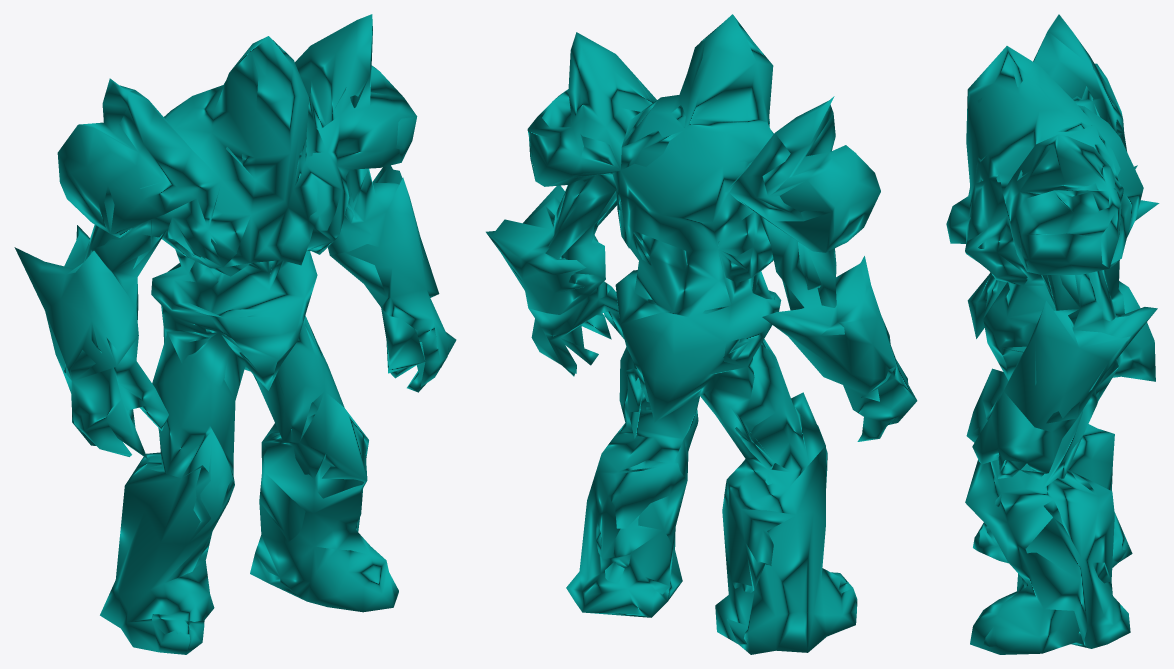
The model's file is gen3d-crystal-golem-lod0.glb.
3 renders of one model, left to right at view 1: azimuth 30°, elevation 25°; view 2: azimuth 150°, elevation 25°; view 3: azimuth 270°, elevation 25°, orthographic. The views are drawn at different scales.
Visible parts, largest first — view 1: part_0; view 2: part_0; view 3: part_0.
Boxes of the visible parts, bbox=[...] form: part_0: bbox=[14, 14, 456, 654]; part_0: bbox=[486, 14, 917, 654]; part_0: bbox=[946, 14, 1159, 654].
Bounding box in the file's own units: 0.6655 × 0.9995 × 0.3505.
